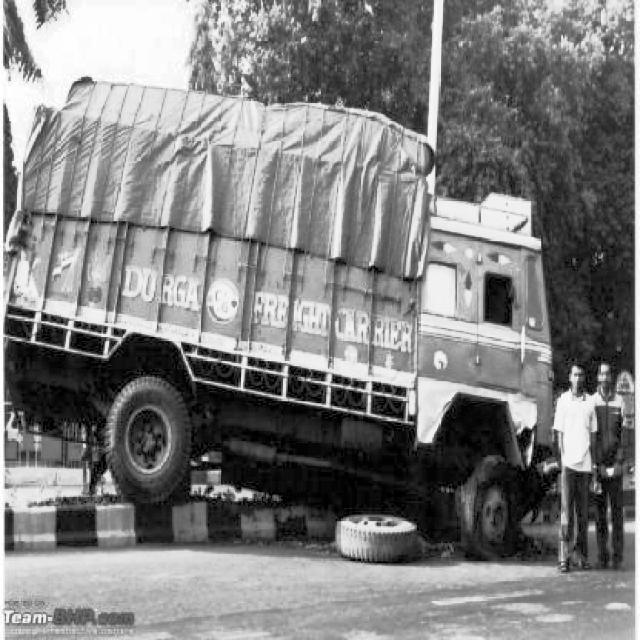HCV: (269, 14, 531, 476), (17, 26, 209, 480)
